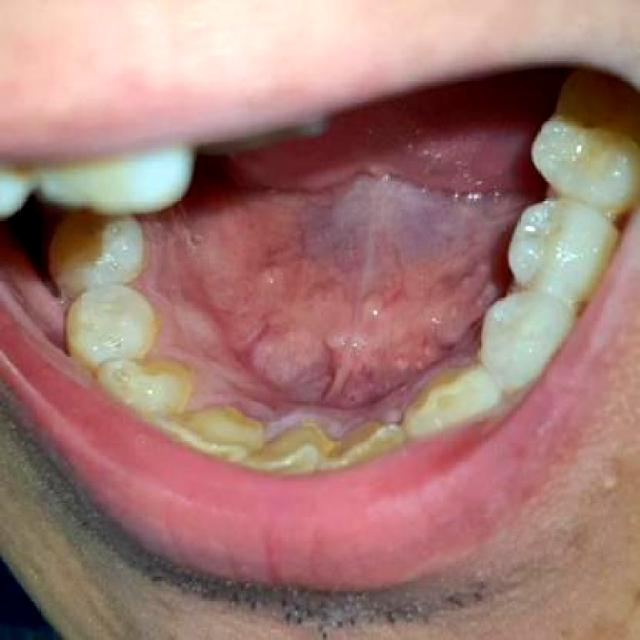Plaque: (146, 311, 395, 445)
